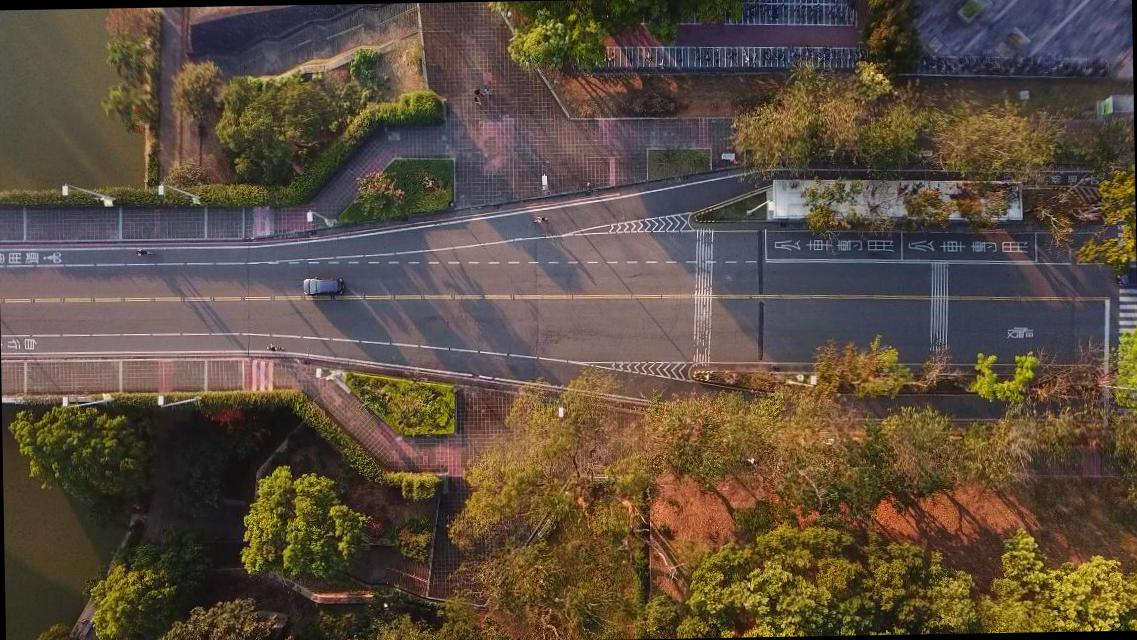vehicle: (302, 277, 344, 295), (1116, 266, 1136, 288)
